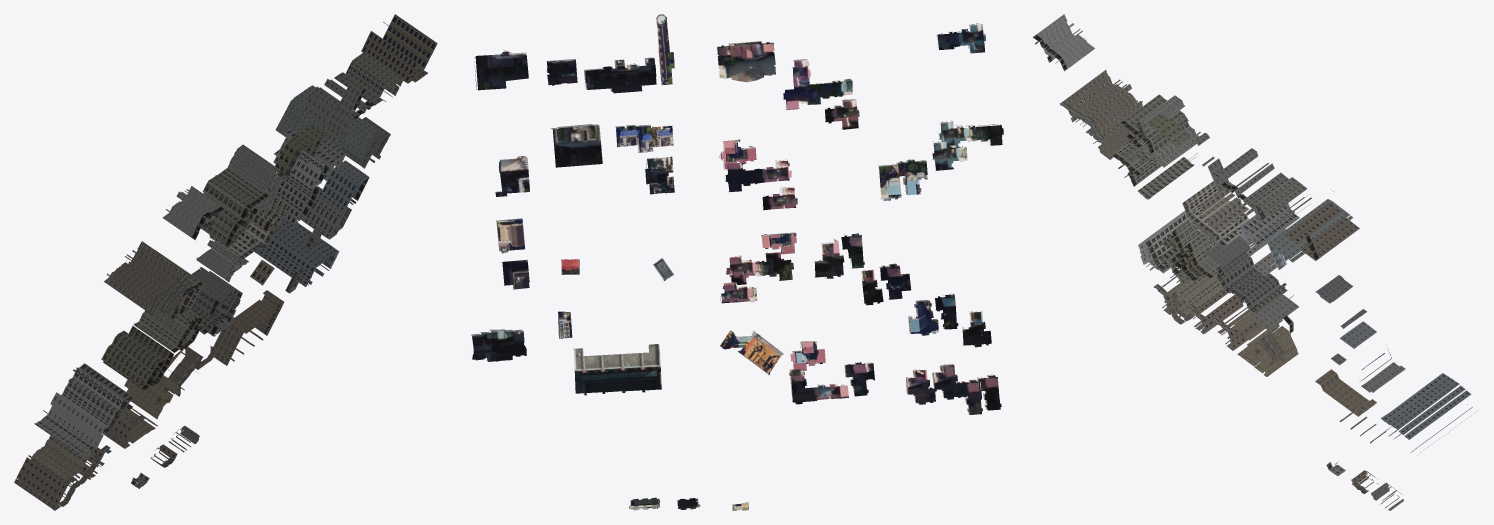
Rendered from tile_LOD8_r1_c7.glb.
3 renders of one model, left to right at view 1: azimuth 30°, elevation 25°; view 2: azimuth 150°, elevation 25°; view 3: azimuth 270°, elevation 25°, orthographic. The views are drawn at different scales.
Bounding box in the file's own units: 331 × 276 × 273.
195 materials, 195 textured.
